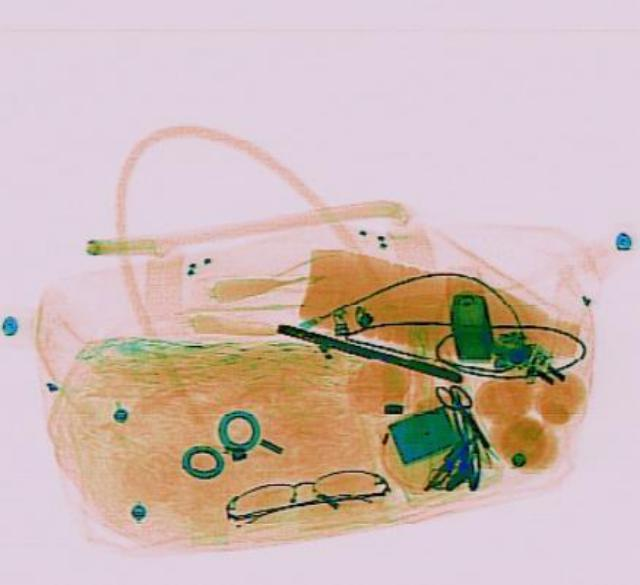Scissors: (429, 374, 503, 453)
